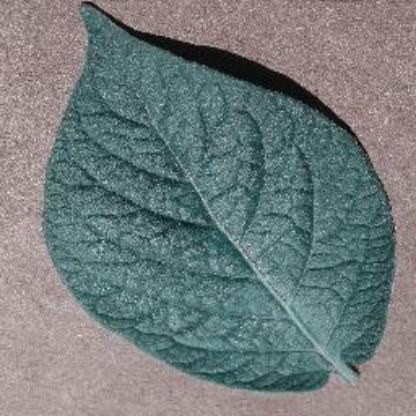Healthy-plant: (40, 0, 400, 398)
